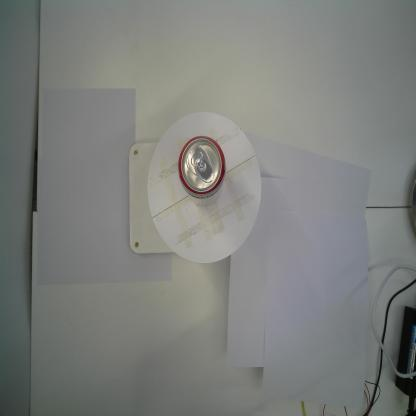Alcohol: (178, 135, 226, 199)
